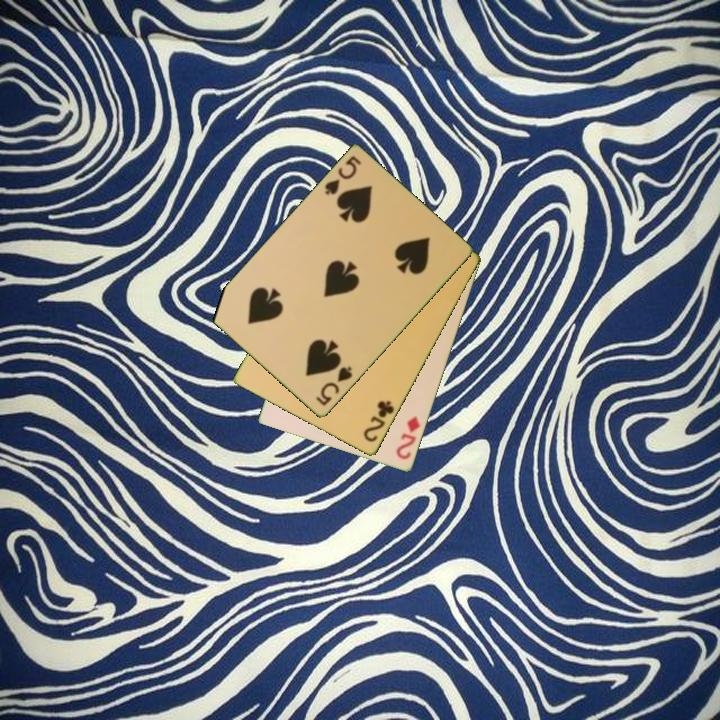2c: (360, 397, 397, 445)
2d: (393, 413, 423, 463)
5s: (321, 152, 364, 199), (312, 363, 355, 409)
